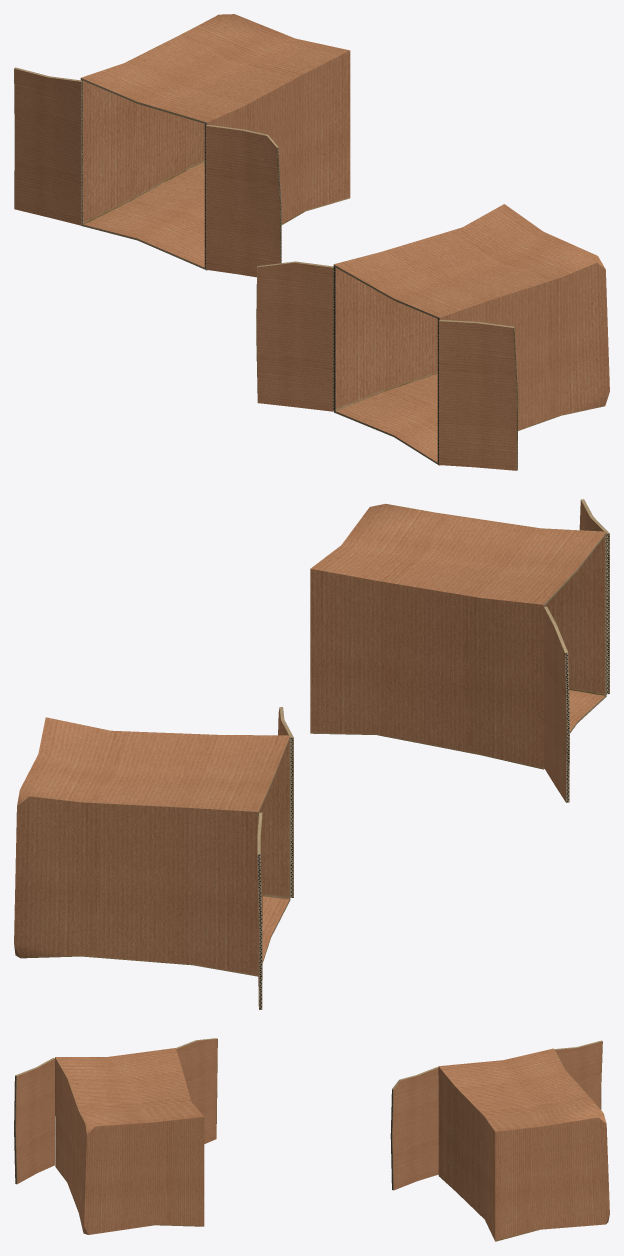
Rendered from boxTrigger.FBX.
The picture shows the model from 3 angles, top to bottom: view 1: azimuth 30°, elevation 25°; view 2: azimuth 150°, elevation 25°; view 3: azimuth 270°, elevation 25°; orthographic projection. The views are drawn at different scales.
Visible parts, largest first — view 1: boxTrigger_01, boxTrigger_02; view 2: boxTrigger_01, boxTrigger_02; view 3: boxTrigger_02, boxTrigger_01.
Part boxes in pixels (x1=…): boxTrigger_01: x1=256, y1=204, x2=609, y2=470; boxTrigger_02: x1=14, y1=14, x2=350, y2=277; boxTrigger_01: x1=310, y1=499, x2=609, y2=802; boxTrigger_02: x1=14, y1=707, x2=293, y2=1009; boxTrigger_02: x1=390, y1=1040, x2=609, y2=1241; boxTrigger_01: x1=14, y1=1038, x2=217, y2=1234.
Size of the model in its own units: 3.37 by 1.69 by 8.3.
